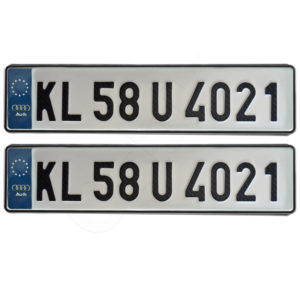inlp: (2, 140, 299, 223), (2, 61, 300, 137)
